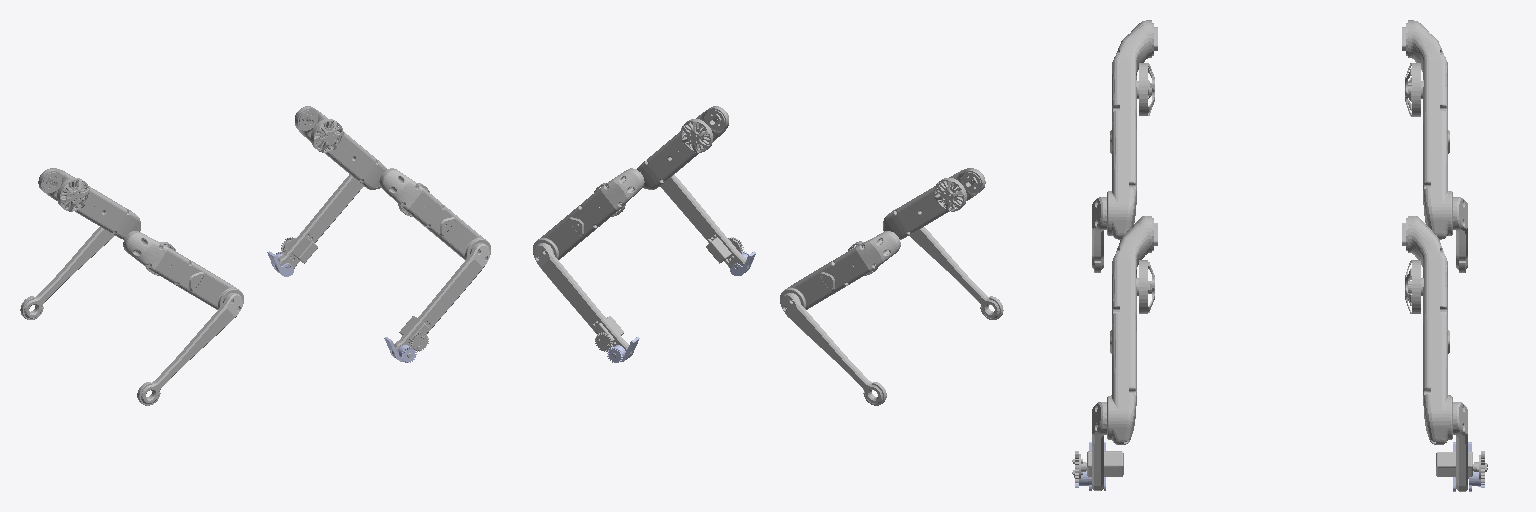
robot.urdf — solo8_URDF_v3:
<?xml version="1.0" encoding="utf-8"?>
<!-- This URDF was automatically created by SolidWorks to URDF Exporter! Originally created by [author] ([email redacted]) 
     Commit Version: 1.6.0-1-g15f4949  Build Version: 1.6.7594.29634
     For more information, please see http://wiki.ros.org/sw_urdf_exporter -->
<robot
  name="solo8_URDF_v3">
  <link
    name="base_link">
    <inertial>
      <origin
        xyz="0.0187148127798626 -1.37956759018194E-07 -0.0435000047380956"
        rpy="0 0 0" />
      <mass
        value="1.25793328622881" />
      <inertia
        ixx="0.00101276299480592"
        ixy="-5.24650216618834E-10"
        ixz="-2.17766328871395E-12"
        iyy="0.00265033173351852"
        iyz="-1.54758018048686E-08"
        izz="0.00271851214958927" />
    </inertial>
    <visual>
      <origin
        xyz="0 0 0"
        rpy="0 0 0" />
      <geometry>
        <mesh
          filename="base_link.STL" />
      </geometry>
      <material
        name="">
        <color
          rgba="0.752941176470588 0.752941176470588 0.752941176470588 1" />
      </material>
    </visual>
    <collision>
      <origin
        xyz="0 0 0"
        rpy="0 0 0" />
      <geometry>
        <mesh
          filename="base_link.STL" />
      </geometry>
    </collision>
  </link>
  <link
    name="rear_left_upper_leg">
    <inertial>
      <origin
        xyz="0.026046 0.0004031 0.081835"
        rpy="0 0 0" />
      <mass
        value="0.087858" />
      <inertia
        ixx="0.00016017"
        ixy="-4.143E-08"
        ixz="-1.0172E-05"
        iyy="0.00015477"
        iyz="-5.8268E-07"
        izz="1.4591E-05" />
    </inertial>
    <visual>
      <origin
        xyz="0 0 0"
        rpy="0 0 0" />
      <geometry>
        <mesh
          filename="rear_left_upper_leg.STL" />
      </geometry>
      <material
        name="">
        <color
          rgba="0.75294 0.75294 0.75294 1" />
      </material>
    </visual>
    <collision>
      <origin
        xyz="0 0 0"
        rpy="0 0 0" />
      <geometry>
        <mesh
          filename="rear_left_upper_leg.STL" />
      </geometry>
    </collision>
  </link>
  <joint
    name="HL_HFE"
    type="revolute">
    <origin
      xyz="0.19 -0.09805 -0.0435"
      rpy="-2.3673 0 -1.5708" />
    <parent
      link="base_link" />
    <child
      link="rear_left_upper_leg" />
    <axis
      xyz="1 0 0" />
    <limit
      lower="-10"
      upper="10"
      effort="1000"
      velocity="1000" />
  </joint>
  <link
    name="rear_left_lower_leg">
    <inertial>
      <origin
        xyz="0.0201861587213797 0.087941877061487 0.000682613909206764"
        rpy="0 0 0" />
      <mass
        value="0.0568161930350581" />
      <inertia
        ixx="0.000116328614146804"
        ixy="-2.14208909371042E-06"
        ixz="-1.59050133442037E-08"
        iyy="3.93234752062038E-06"
        iyz="-8.26373249109475E-07"
        izz="0.000115295184428552" />
    </inertial>
    <visual>
      <origin
        xyz="0 0 0"
        rpy="0 0 0" />
      <geometry>
        <mesh
          filename="rear_left_lower_leg.STL" />
      </geometry>
      <material
        name="">
        <color
          rgba="0.752941176470588 0.752941176470588 0.752941176470588 1" />
      </material>
    </visual>
    <collision>
      <origin
        xyz="0 0 0"
        rpy="0 0 0" />
      <geometry>
        <mesh
          filename="rear_left_lower_leg.STL" />
      </geometry>
    </collision>
  </link>
  <joint
    name="HL_KFE"
    type="revolute">
    <origin
      xyz="0.03075 0 0.16"
      rpy="-0.049249 0 0" />
    <parent
      link="rear_left_upper_leg" />
    <child
      link="rear_left_lower_leg" />
    <axis
      xyz="1 0 0" />
    <limit
      lower="-10"
      upper="10"
      effort="1000"
      velocity="1000" />
  </joint>
  <link
    name="left_foot">
    <inertial>
      <origin
        xyz="0.00331364402958532 0.00143875732493048 -0.0144303969317147"
        rpy="0 0 0" />
      <mass
        value="0.00519421726516858" />
      <inertia
        ixx="7.14275963077855E-07"
        ixy="-1.52167018126973E-07"
        ixz="-1.20021393302857E-07"
        iyy="5.05994074606062E-07"
        iyz="-1.0566482476705E-07"
        izz="6.36337715625951E-07" />
    </inertial>
    <visual>
      <origin
        xyz="0 0 0"
        rpy="0 0 0" />
      <geometry>
        <mesh
          filename="left_foot.STL" />
      </geometry>
      <material
        name="">
        <color
          rgba="0.792156862745098 0.819607843137255 0.933333333333333 1" />
      </material>
    </visual>
    <collision>
      <origin
        xyz="0 0 0"
        rpy="0 0 0" />
      <geometry>
        <mesh
          filename="left_foot.STL" />
      </geometry>
    </collision>
  </link>
  <joint
    name="HL_ANKLE"
    type="revolute">
    <origin
      xyz="0.0142 0.16 0"
      rpy="-1.5708 0.33192 1.5708" />
    <parent
      link="rear_left_lower_leg" />
    <child
      link="left_foot" />
    <axis
      xyz="0 0 1" />
    <limit
      lower="-10"
      upper="10"
      effort="1000"
      velocity="1000" />
  </joint>
  <link
    name="rear_right_upper_leg">
    <inertial>
      <origin
        xyz="0.0260465267936579 0.0817985774193672 0.00252030923197535"
        rpy="0 0 0" />
      <mass
        value="0.0878564382199233" />
      <inertia
        ixx="0.000160158110712022"
        ixy="-1.01659868433499E-05"
        ixz="-3.21829554692256E-07"
        iyy="1.47284903395382E-05"
        iyz="-4.42191600696365E-06"
        izz="0.000154628943283281" />
    </inertial>
    <visual>
      <origin
        xyz="0 0 0"
        rpy="0 0 0" />
      <geometry>
        <mesh
          filename="rear_right_upper_leg.STL" />
      </geometry>
      <material
        name="">
        <color
          rgba="0.752941176470588 0.752941176470588 0.752941176470588 1" />
      </material>
    </visual>
    <collision>
      <origin
        xyz="0 0 0"
        rpy="0 0 0" />
      <geometry>
        <mesh
          filename="rear_right_upper_leg.STL" />
      </geometry>
    </collision>
  </link>
  <joint
    name="HR_HFE"
    type="revolute">
    <origin
      xyz="0.19 0.09805 -0.0435"
      rpy="-2.3717 0 1.5708" />
    <parent
      link="base_link" />
    <child
      link="rear_right_upper_leg" />
    <axis
      xyz="1 0 0" />
    <limit
      lower="-10"
      upper="10"
      effort="1000"
      velocity="1000" />
  </joint>
  <link
    name="rear_right_lower_leg">
    <inertial>
      <origin
        xyz="-0.0201751085272461 0.0871955493114109 -2.06363182098102E-09"
        rpy="0 0 0" />
      <mass
        value="0.0568161929651329" />
      <inertia
        ixx="0.000116328614225965"
        ixy="2.1421481399729E-06"
        ixz="1.39919428277511E-12"
        iyy="3.9260903433923E-06"
        iyz="-7.23899369448062E-10"
        izz="0.000115301441812862" />
    </inertial>
    <visual>
      <origin
        xyz="0 0 0"
        rpy="0 0 0" />
      <geometry>
        <mesh
          filename="rear_right_lower_leg.STL" />
      </geometry>
      <material
        name="">
        <color
          rgba="0.752941176470588 0.752941176470588 0.752941176470588 1" />
      </material>
    </visual>
    <collision>
      <origin
        xyz="0 0 0"
        rpy="0 0 0" />
      <geometry>
        <mesh
          filename="rear_right_lower_leg.STL" />
      </geometry>
    </collision>
  </link>
  <joint
    name="HR_KFE"
    type="revolute">
    <origin
      xyz="0.03075 0.15992 0.0049658"
      rpy="1.5049 0 3.1416" />
    <parent
      link="rear_right_upper_leg" />
    <child
      link="rear_right_lower_leg" />
    <axis
      xyz="1 0 0" />
    <limit
      lower="-10"
      upper="10"
      effort="1000"
      velocity="1000" />
  </joint>
  <link
    name="right_foot">
    <inertial>
      <origin
        xyz="0.00344223985483189 0.0029214819589406 0.014558182135319"
        rpy="0 0 0" />
      <mass
        value="0.00552399106597407" />
      <inertia
        ixx="8.22177464826941E-07"
        ixy="-1.69638071127303E-07"
        ixz="1.30606051459638E-07"
        iyy="5.77726311873315E-07"
        iyz="9.99548715929835E-08"
        izz="7.06402190944133E-07" />
    </inertial>
    <visual>
      <origin
        xyz="0 0 0"
        rpy="0 0 0" />
      <geometry>
        <mesh
          filename="right_foot.STL" />
      </geometry>
      <material
        name="">
        <color
          rgba="0.792156862745098 0.819607843137255 0.933333333333333 1" />
      </material>
    </visual>
    <collision>
      <origin
        xyz="0 0 0"
        rpy="0 0 0" />
      <geometry>
        <mesh
          filename="right_foot.STL" />
      </geometry>
    </collision>
  </link>
  <joint
    name="HR_ANKLE"
    type="revolute">
    <origin
      xyz="-0.01345 0.16 0"
      rpy="-1.5708 0.34193 1.5708" />
    <parent
      link="rear_right_lower_leg" />
    <child
      link="right_foot" />
    <axis
      xyz="0 0 1" />
    <limit
      lower="-10"
      upper="10"
      effort="1000"
      velocity="1000" />
  </joint>
  <link
    name="front_left_upper_leg">
    <inertial>
      <origin
        xyz="0.026046427800671 0.000759773130200703 0.0818332035551827"
        rpy="0 0 0" />
      <mass
        value="0.087857090124181" />
      <inertia
        ixx="0.000160164817879811"
        ixy="-8.58263603392545E-08"
        ixz="-1.01716555000207E-05"
        iyy="0.000154765263448096"
        iyz="-1.19418617932959E-06"
        izz="1.45992431023424E-05" />
    </inertial>
    <visual>
      <origin
        xyz="0 0 0"
        rpy="0 0 0" />
      <geometry>
        <mesh
          filename="front_left_upper_leg.STL" />
      </geometry>
      <material
        name="">
        <color
          rgba="0.752941176470588 0.752941176470588 0.752941176470588 1" />
      </material>
    </visual>
    <collision>
      <origin
        xyz="0 0 0"
        rpy="0 0 0" />
      <geometry>
        <mesh
          filename="front_left_upper_leg.STL" />
      </geometry>
    </collision>
  </link>
  <joint
    name="FL_HFE"
    type="revolute">
    <origin
      xyz="-0.19 -0.09805 -0.0435"
      rpy="-2.2374 0 -1.5708" />
    <parent
      link="base_link" />
    <child
      link="front_left_upper_leg" />
    <axis
      xyz="1 0 0" />
    <limit
      lower="-10"
      upper="10"
      effort="1000"
      velocity="1000" />
  </joint>
  <link
    name="front_left_lower_leg">
    <inertial>
      <origin
        xyz="-0.014187037862425 -0.0695913401206793 -0.0198482763387919"
        rpy="0 0 0" />
      <mass
        value="0.0352180325391499" />
      <inertia
        ixx="0.000102544955578237"
        ixy="-1.8757355037087E-06"
        ixz="-5.4527395090742E-07"
        iyy="9.51996520802449E-06"
        iyz="-2.67868130214717E-05"
        izz="9.38794711574036E-05" />
    </inertial>
    <visual>
      <origin
        xyz="0 0 0"
        rpy="0 0 0" />
      <geometry>
        <mesh
          filename="front_left_lower_leg.STL" />
      </geometry>
      <material
        name="">
        <color
          rgba="0.752941176470588 0.752941176470588 0.752941176470588 1" />
      </material>
    </visual>
    <collision>
      <origin
        xyz="0 0 0"
        rpy="0 0 0" />
      <geometry>
        <mesh
          filename="front_left_lower_leg.STL" />
      </geometry>
    </collision>
  </link>
  <joint
    name="FL_KFE"
    type="revolute">
    <origin
      xyz="0.03695 0 0.16"
      rpy="-0.022221 0 3.1416" />
    <parent
      link="front_left_upper_leg" />
    <child
      link="front_left_lower_leg" />
    <axis
      xyz="1 0 0" />
    <limit
      lower="-10"
      upper="10"
      effort="1000"
      velocity="1000" />
  </joint>
  <link
    name="front_right_upper_leg">
    <inertial>
      <origin
        xyz="0.0260464258072011 0.0798595839017683 -0.0178800678395402"
        rpy="0 0 0" />
      <mass
        value="0.0878570339882989" />
      <inertia
        ixx="0.000160161580801276"
        ixy="-9.92781002184083E-06"
        ixz="2.21393841101561E-06"
        iyy="2.12349014164044E-05"
        iyz="2.97907800117801E-05"
        izz="0.000148126178764019" />
    </inertial>
    <visual>
      <origin
        xyz="0 0 0"
        rpy="0 0 0" />
      <geometry>
        <mesh
          filename="front_right_upper_leg.STL" />
      </geometry>
      <material
        name="">
        <color
          rgba="0.752941176470588 0.752941176470588 0.752941176470588 1" />
      </material>
    </visual>
    <collision>
      <origin
        xyz="0 0 0"
        rpy="0 0 0" />
      <geometry>
        <mesh
          filename="front_right_upper_leg.STL" />
      </geometry>
    </collision>
  </link>
  <joint
    name="FR_HFE"
    type="revolute">
    <origin
      xyz="-0.19 0.09805 -0.0435"
      rpy="-2.2462 0 1.5708" />
    <parent
      link="base_link" />
    <child
      link="front_right_upper_leg" />
    <axis
      xyz="1 0 0" />
    <limit
      lower="-10"
      upper="10"
      effort="1000"
      velocity="1000" />
  </joint>
  <link
    name="front_right_lower_leg">
    <inertial>
      <origin
        xyz="-0.0141870378589343 -1.69254973647615E-08 0.0709658035538391"
        rpy="0 0 0" />
      <mass
        value="0.0352180331022319" />
      <inertia
        ixx="0.000102544957026267"
        ixy="-1.79770917056001E-12"
        ixz="1.95338346854237E-06"
        iyy="0.000101666357356923"
        iyz="6.43785910492818E-11"
        izz="1.73308070272904E-06" />
    </inertial>
    <visual>
      <origin
        xyz="0 0 0"
        rpy="0 0 0" />
      <geometry>
        <mesh
          filename="front_right_lower_leg.STL" />
      </geometry>
      <material
        name="">
        <color
          rgba="0.752941176470588 0.752941176470588 0.752941176470588 1" />
      </material>
    </visual>
    <collision>
      <origin
        xyz="0 0 0"
        rpy="0 0 0" />
      <geometry>
        <mesh
          filename="front_right_lower_leg.STL" />
      </geometry>
    </collision>
  </link>
  <joint
    name="FR_KFE"
    type="revolute">
    <origin
      xyz="0.03695 0.15614 -0.03492"
      rpy="-0.031926 0 3.1416" />
    <parent
      link="front_right_upper_leg" />
    <child
      link="front_right_lower_leg" />
    <axis
      xyz="1 0 0" />
    <limit
      lower="-10"
      upper="10"
      effort="1000"
      velocity="1000" />
  </joint>
</robot>

--- What the picture shows (computed from the rendered views, not written in the file) ---
Views: 3 orthographic renders of the robot side by side, from view 1: azimuth 30°, elevation 25°; view 2: azimuth 150°, elevation 25°; view 3: azimuth 270°, elevation 25°.
Robot: solo8_URDF_v3 — 11 links, 10 joints (10 revolute); root link base_link; default pose: every joint at zero.
Visible links, largest first — view 1: front_left_upper_leg, rear_left_upper_leg, front_right_upper_leg, rear_right_upper_leg, rear_left_lower_leg, rear_right_lower_leg, front_left_lower_leg, front_right_lower_leg; view 2: front_right_upper_leg, rear_right_upper_leg, front_left_upper_leg, rear_left_upper_leg, rear_right_lower_leg, rear_left_lower_leg, front_right_lower_leg, front_left_lower_leg; view 3: rear_right_upper_leg, rear_left_upper_leg, front_right_upper_leg, front_left_upper_leg, rear_left_lower_leg, rear_right_lower_leg, front_right_lower_leg, front_left_lower_leg.
Link boxes in pixels (x1,y1,x2,y2): front_left_upper_leg: (123,231,243,309); rear_left_upper_leg: (379,168,490,259); front_right_upper_leg: (38,168,140,239); rear_right_upper_leg: (295,106,386,189); rear_left_lower_leg: (392,243,489,357); rear_right_lower_leg: (275,174,363,272); front_left_lower_leg: (137,293,242,405); front_right_lower_leg: (20,227,114,319); front_right_upper_leg: (780,231,900,309); rear_right_upper_leg: (533,168,644,259); front_left_upper_leg: (883,168,985,239); rear_left_upper_leg: (637,106,728,189); rear_right_lower_leg: (534,243,631,358); rear_left_lower_leg: (660,174,748,272); front_right_lower_leg: (781,293,886,405); front_left_lower_leg: (909,227,1003,319); rear_right_upper_leg: (1402,216,1452,444); rear_left_upper_leg: (1107,216,1157,444); front_right_upper_leg: (1402,20,1452,239); front_left_upper_leg: (1107,20,1157,239); rear_left_lower_leg: (1072,402,1123,490); rear_right_lower_leg: (1436,402,1487,491); front_right_lower_leg: (1453,197,1467,272); front_left_lower_leg: (1092,197,1106,272).
Size in the robot's own frame: 0.5289 by 0.3432 by 0.2513 metres.
10 mesh visuals loaded from 11 distinct referenced files (10 binary STL); not drawn: 1 (reference not matched to a file when rendering).